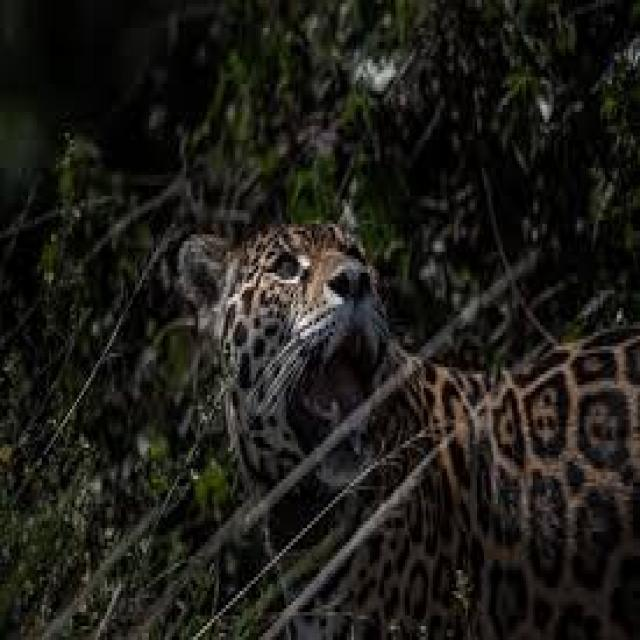Jaguar: (177, 203, 640, 640)
